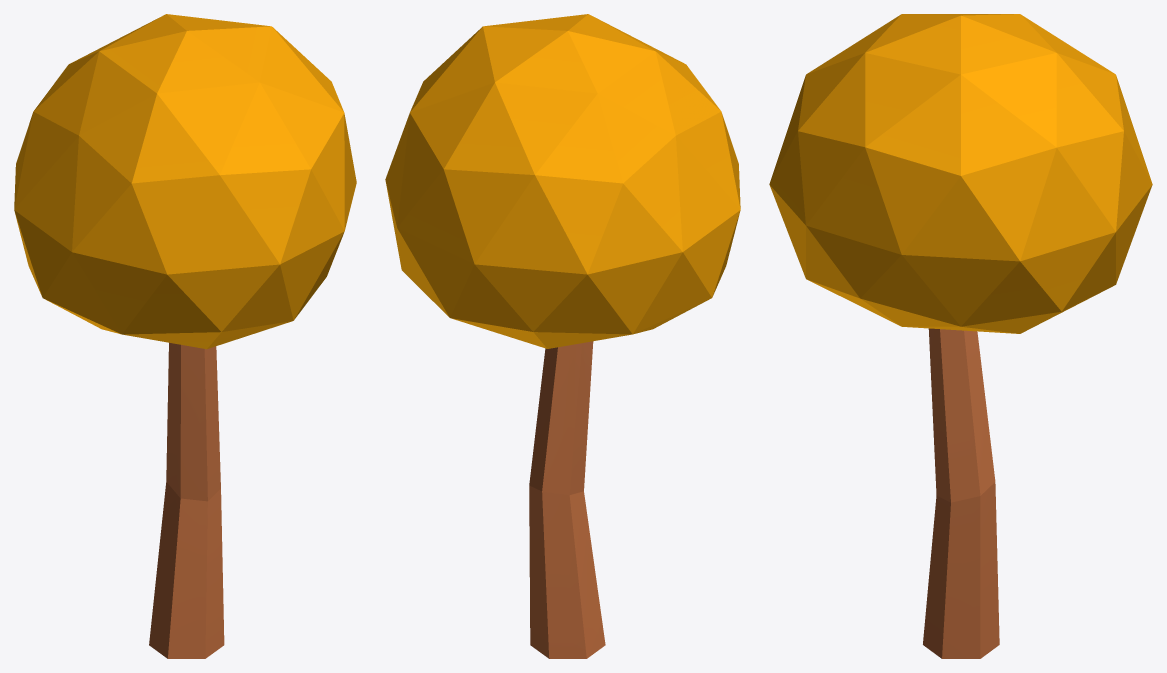
The model's file is tree3.fbx.
3 renders of one model, left to right at view 1: azimuth 30°, elevation 25°; view 2: azimuth 150°, elevation 25°; view 3: azimuth 270°, elevation 25°, orthographic. The views are drawn at different scales.
Visible parts, largest first — view 1: Icosphere.001, Cylinder.007; view 2: Icosphere.001, Cylinder.007; view 3: Icosphere.001, Cylinder.007.
Boxes of the visible parts, x1,y1,x2,y2 form: Icosphere.001: [14, 14, 356, 349]; Cylinder.007: [149, 342, 224, 658]; Icosphere.001: [385, 14, 740, 348]; Cylinder.007: [529, 341, 605, 658]; Icosphere.001: [769, 14, 1152, 333]; Cylinder.007: [923, 328, 999, 658].
Bounding box in the file's own units: 1.84 × 3.62 × 2.
1 material, 1 textured.
